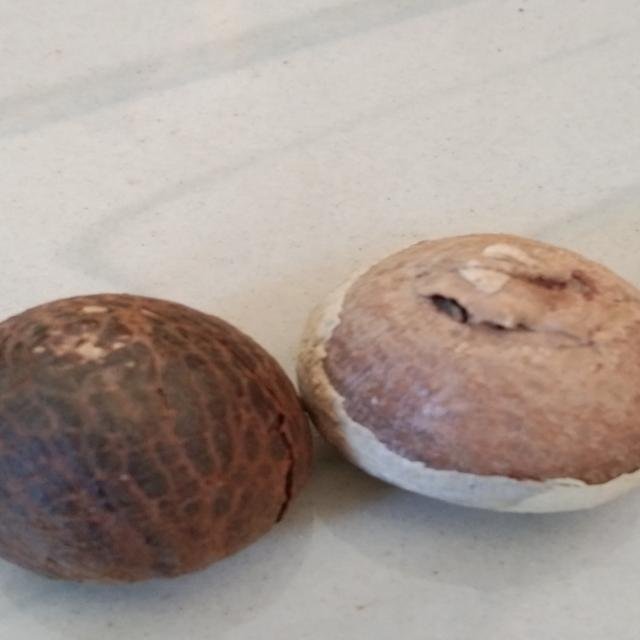karigot: (0, 287, 326, 608)
phatora: (325, 238, 640, 517)
